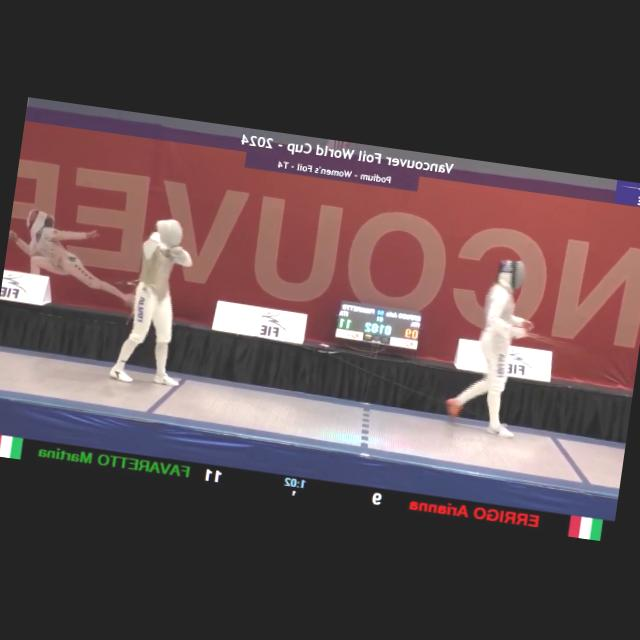blade: (123, 240, 181, 332), (516, 328, 586, 353)
